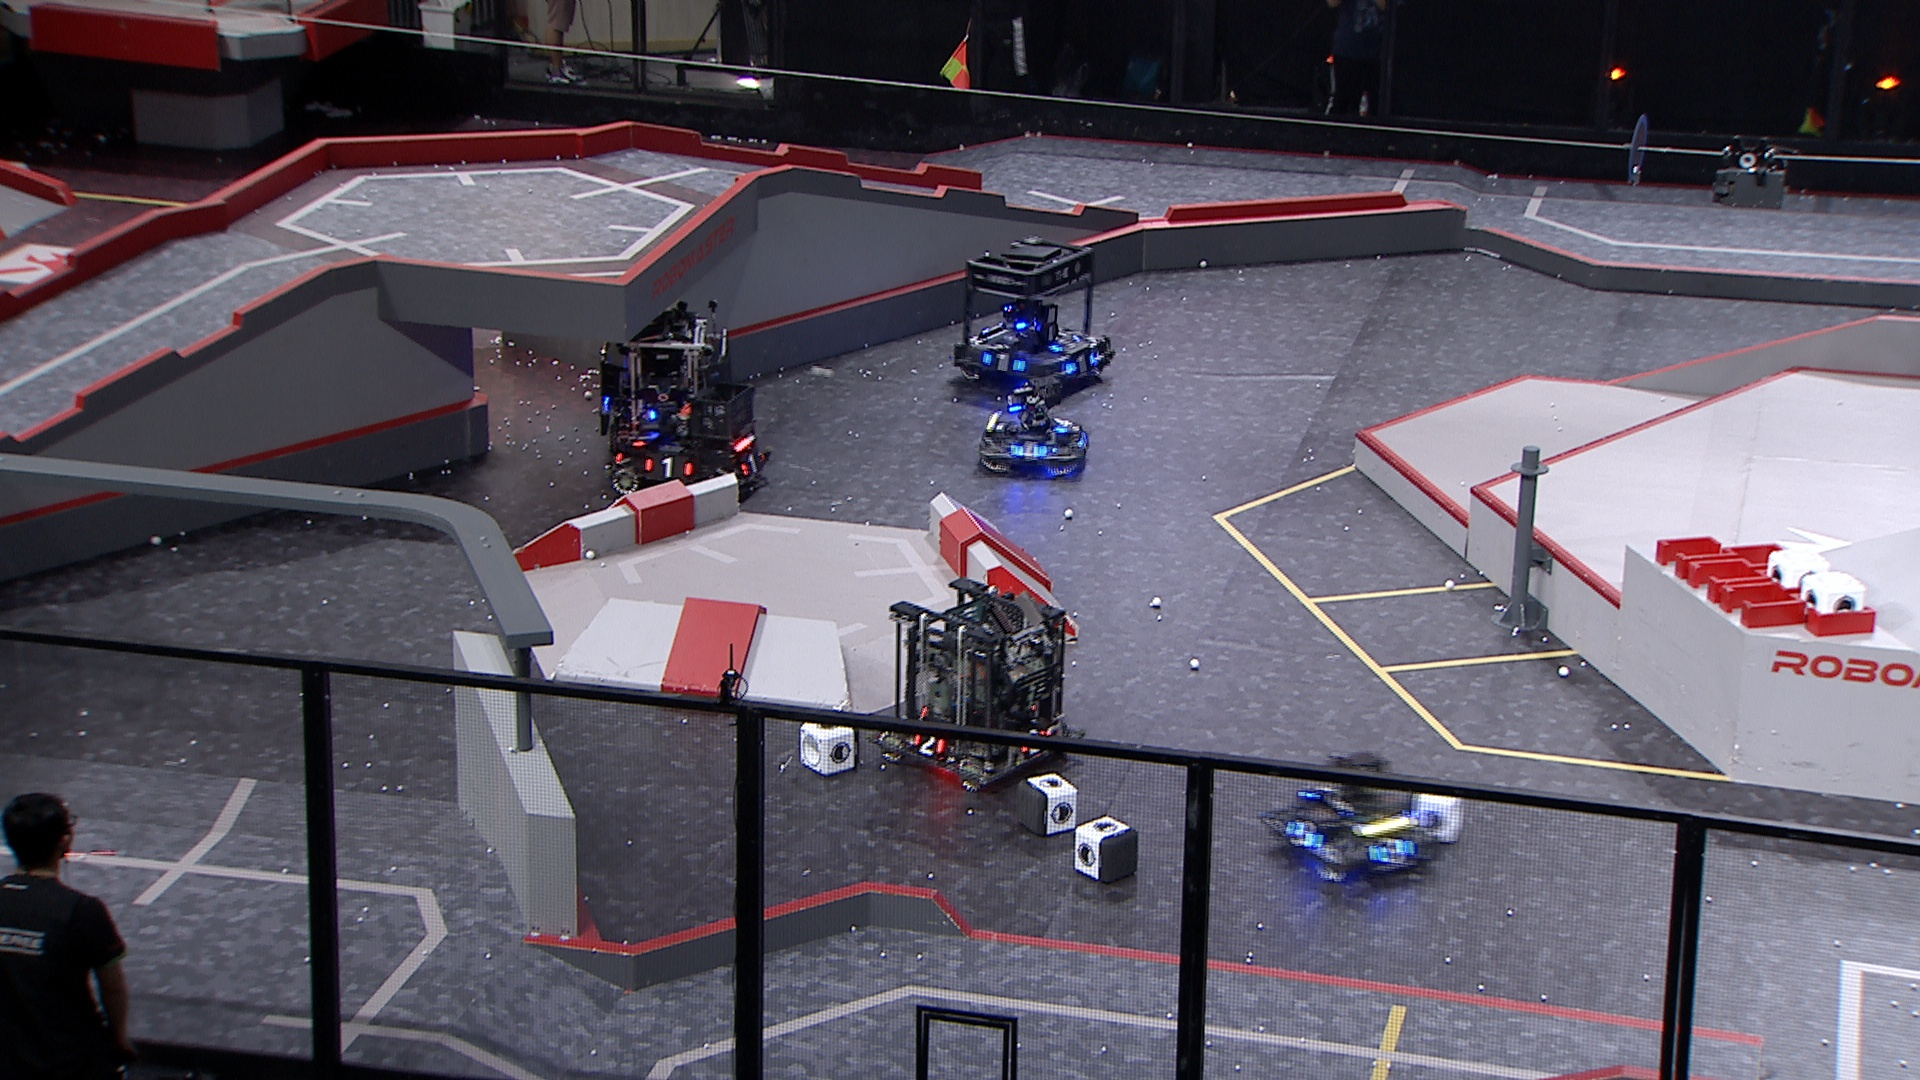armor: (1370, 835, 1415, 864), (1284, 822, 1325, 853), (645, 456, 694, 481), (982, 352, 1027, 377), (1007, 439, 1048, 465), (911, 732, 953, 756), (1021, 725, 1048, 757), (1050, 334, 1087, 356), (1065, 352, 1098, 375), (740, 454, 766, 476), (1050, 414, 1073, 436), (628, 433, 655, 450)
car: (869, 576, 1092, 796), (949, 237, 1117, 394), (1257, 752, 1448, 885), (593, 295, 735, 447), (608, 377, 774, 501), (975, 385, 1088, 477)
